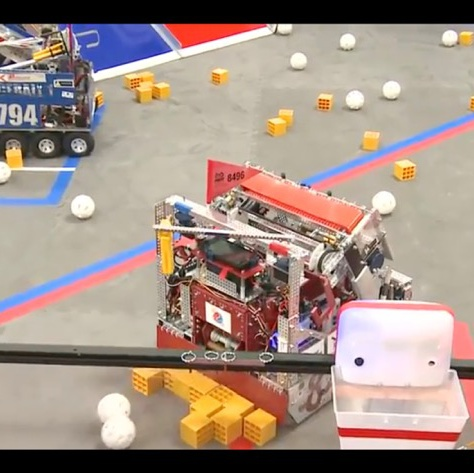robot: (149, 157, 416, 430), (0, 22, 103, 158)
